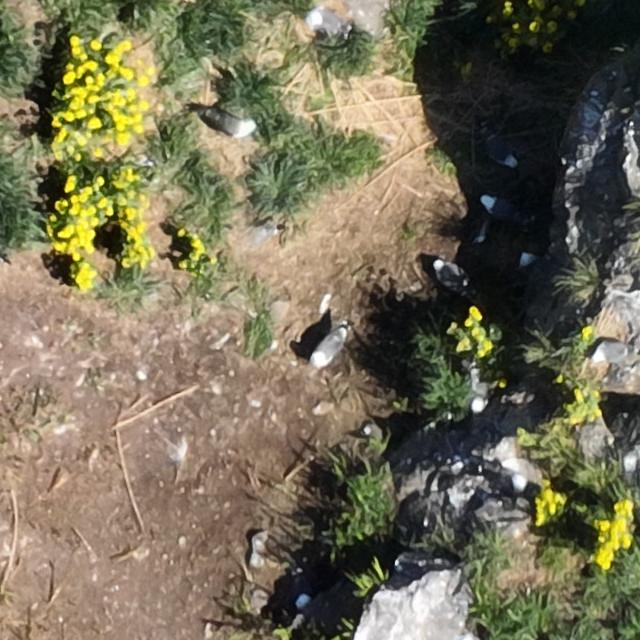umineko: (489, 462, 526, 496), (311, 331, 342, 366), (210, 115, 256, 137), (311, 12, 350, 36), (488, 137, 518, 168), (482, 195, 521, 218), (434, 260, 462, 288), (294, 575, 311, 610)
